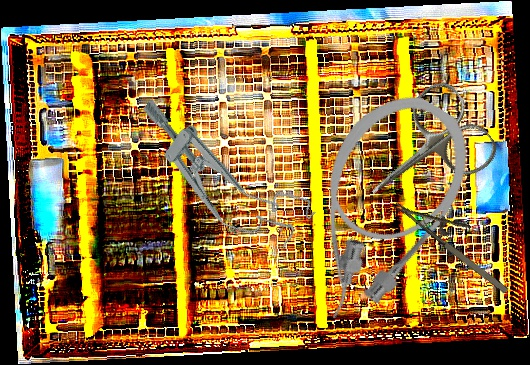Cannula: (263, 75, 491, 340)
Iris Scissors: (342, 75, 504, 231)
Needle Holder: (393, 179, 524, 298)
Speculum: (116, 87, 320, 265)
